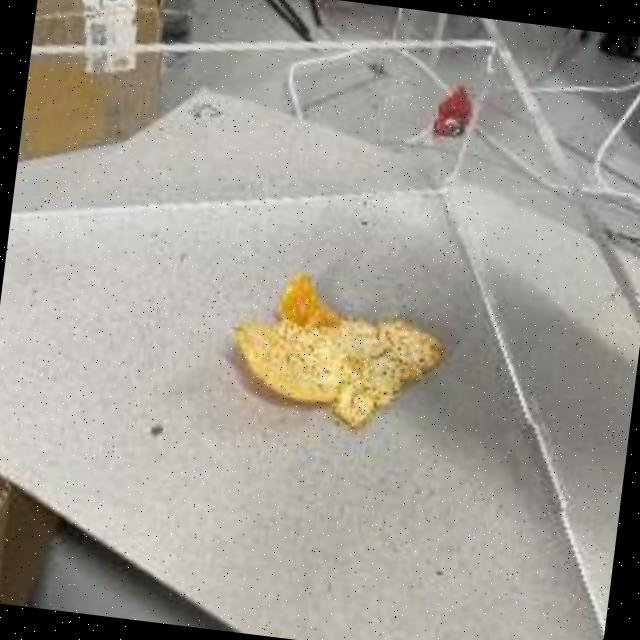orange-peel: (218, 258, 454, 440)
